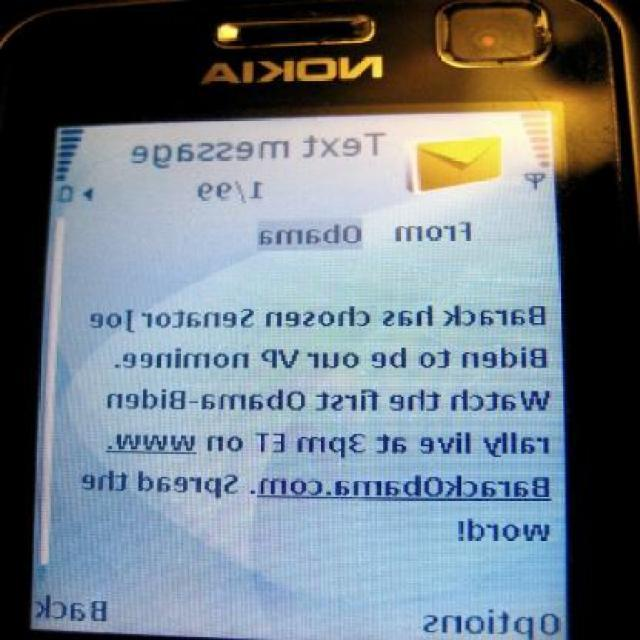phone: (14, 0, 630, 640)
